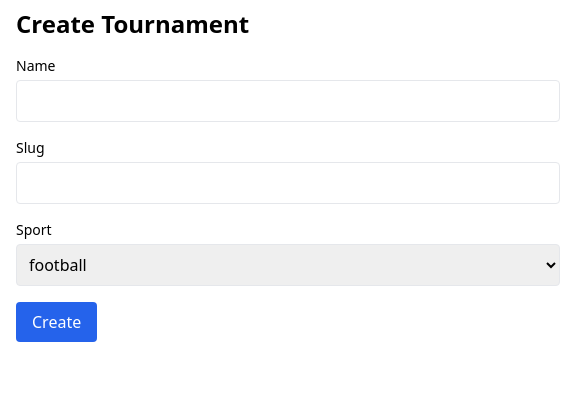
Scenario: CreateTournamentPage › submits the form successfully
Type "Euro 2026" into the field labelled "Name".
click(288, 101); type("Euro 2026")  # box [16, 80, 560, 122]
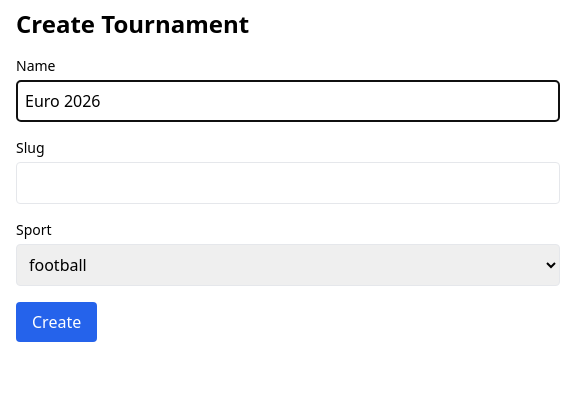
Type "euro2026" into the field labelled "Slug".
click(288, 183); type("euro2026")  # box [16, 162, 560, 204]
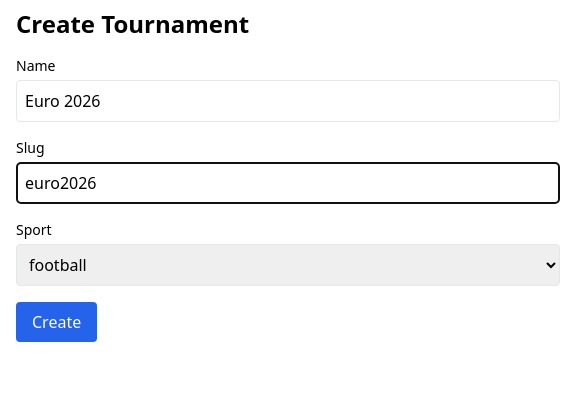
Select "football" in the dropdown labelled "Sport" at (288, 265), box [16, 244, 560, 286]
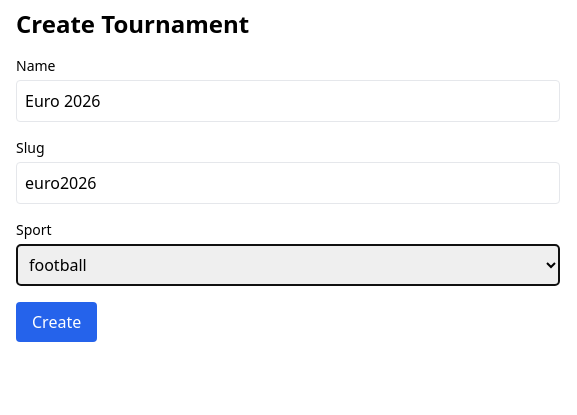
Click the button "Create".
click(57, 322)  # box [16, 302, 97, 342]
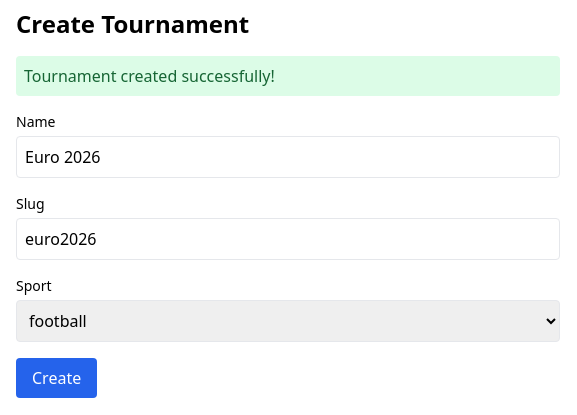
Check: the text "Tournament created successfully!" is shown, box [16, 56, 560, 96]
